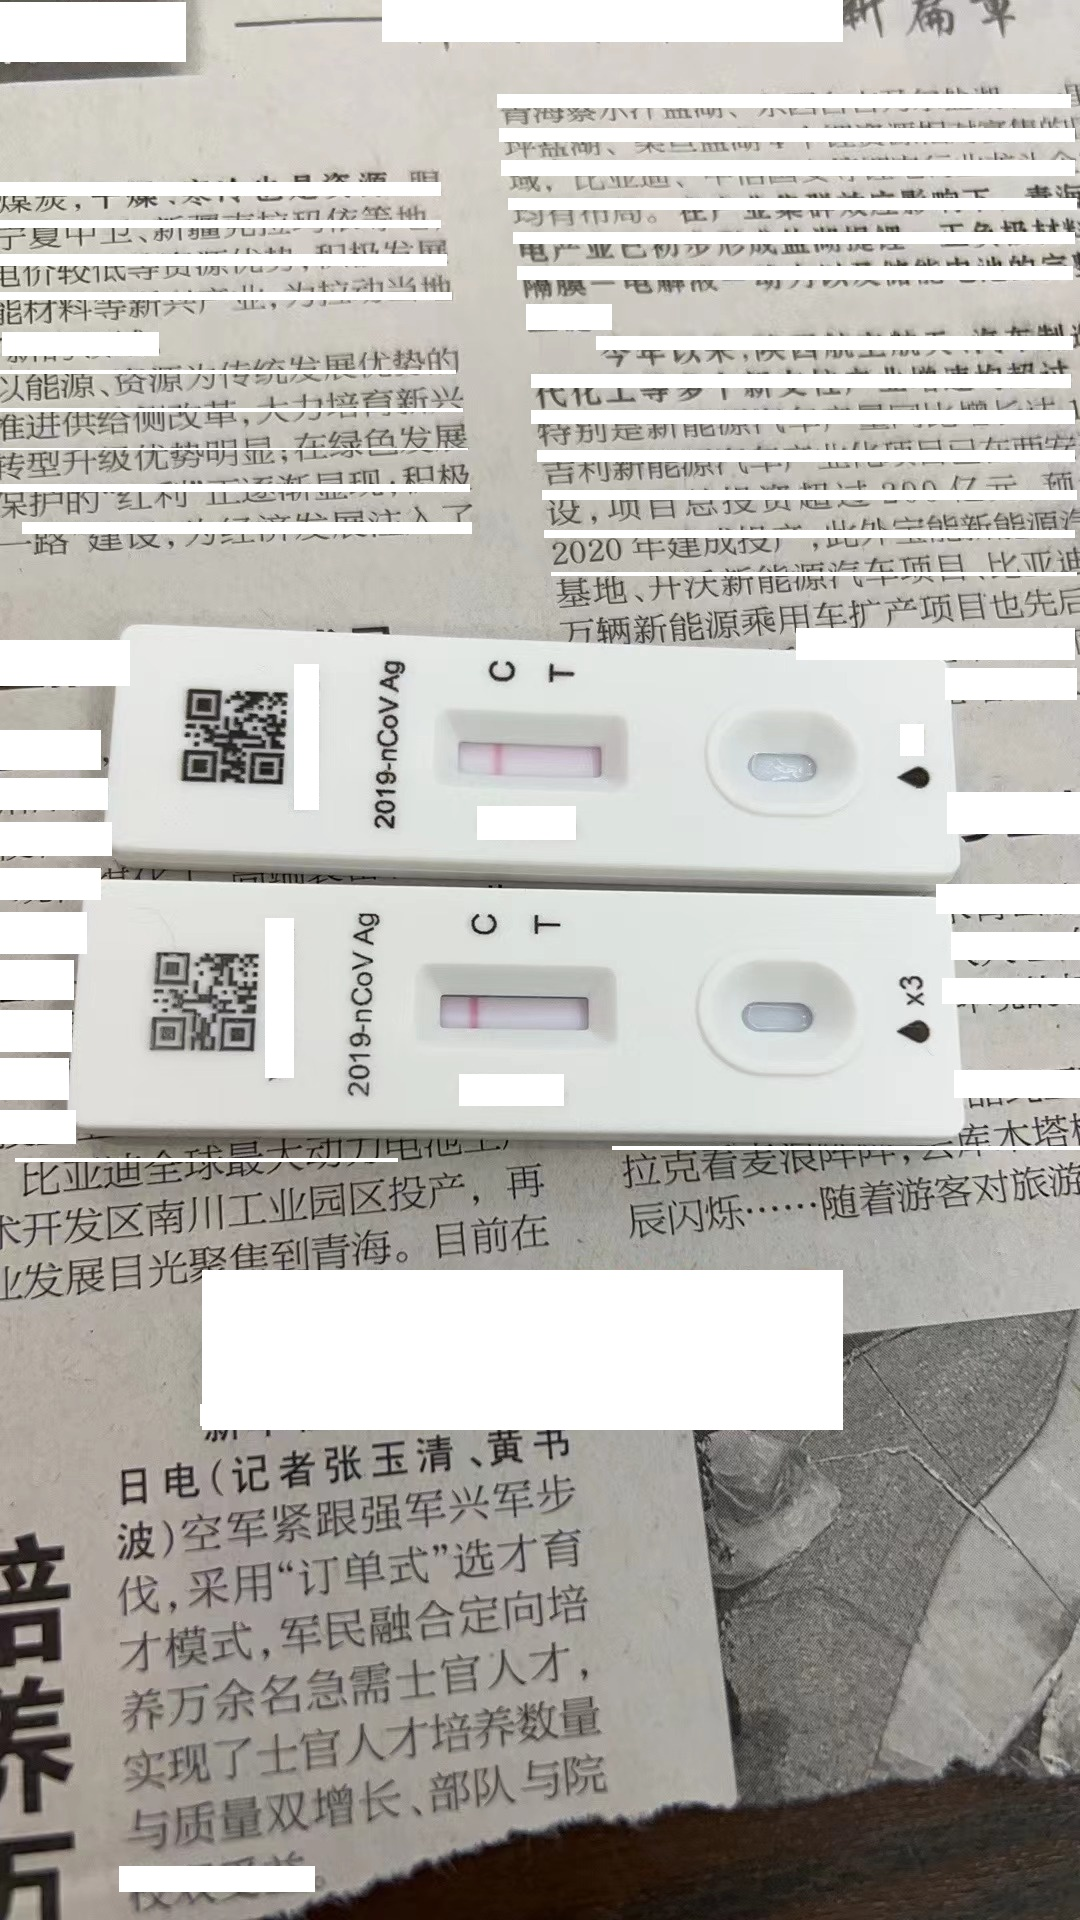negative: (413, 964, 633, 1052), (430, 711, 628, 789)
